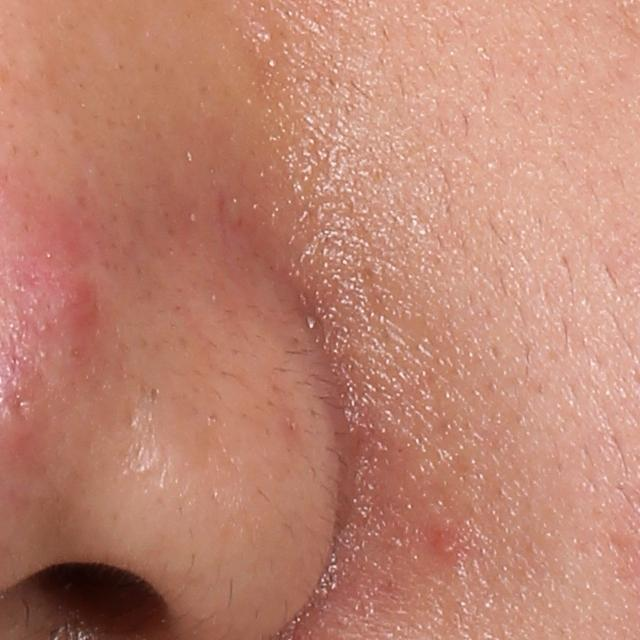papule: (37, 269, 109, 351), (427, 525, 467, 562)
